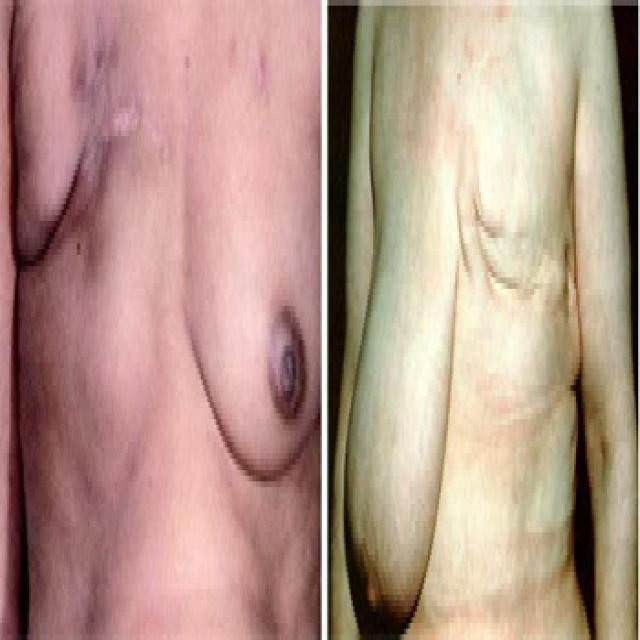Seno herido: (9, 0, 171, 332), (459, 102, 580, 352)
Seno ileso: (340, 102, 457, 640), (174, 107, 322, 525)
